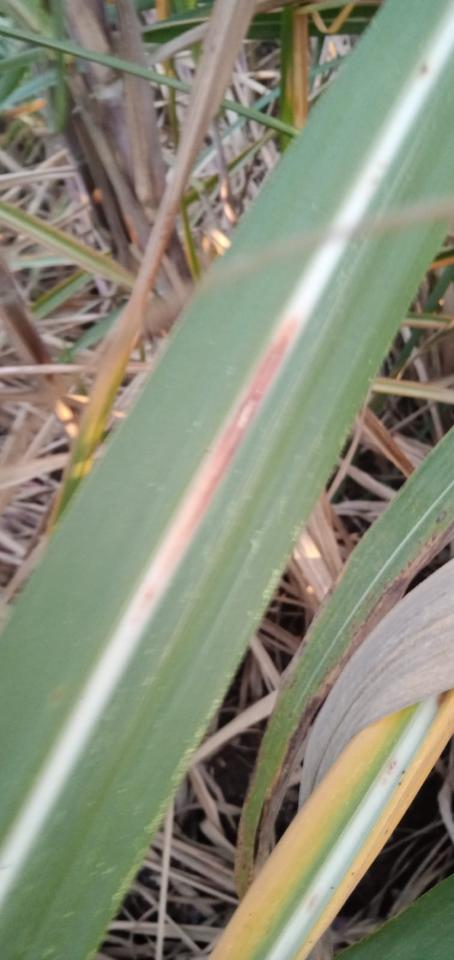RedRot: (138, 316, 299, 618)
